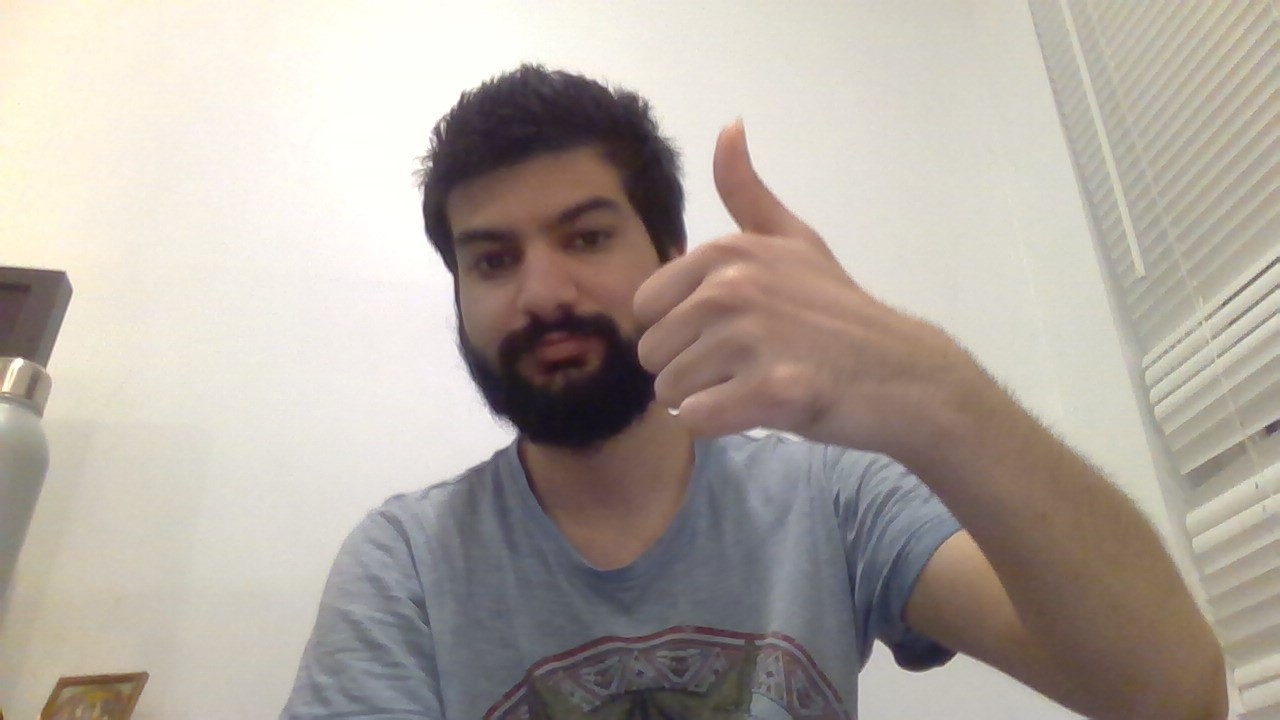up: (639, 104, 840, 439)
